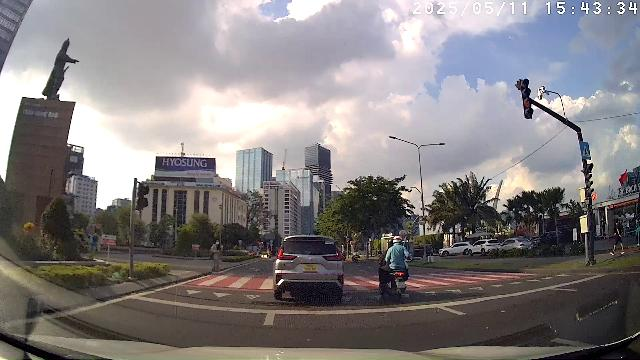423a-duong-nguoi-di-bo-sang-ngang-1: (580, 142, 590, 158)
